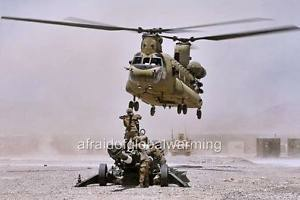chinook: (66, 16, 280, 118)
